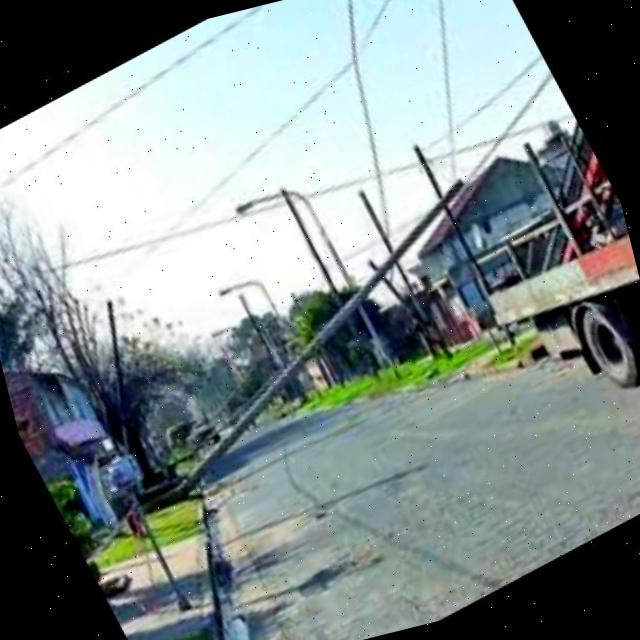Broken Pole: (172, 174, 468, 495)
